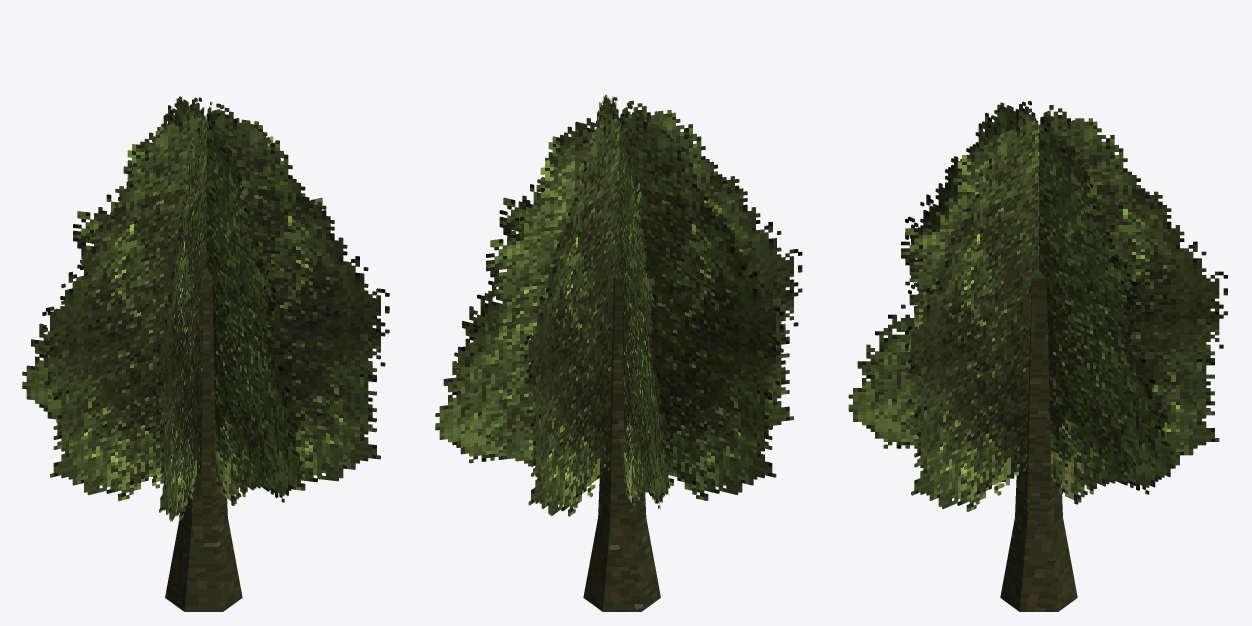
Rendered from tree25.glb.
The picture shows the model from 3 angles, left to right: view 1: azimuth 30°, elevation 25°; view 2: azimuth 150°, elevation 25°; view 3: azimuth 270°, elevation 25°; orthographic projection.
Parts seen in each view (by area): view 1: tree25; view 2: tree25; view 3: tree25.
Part boxes in pixels (<box>): tree25: <box>22,96,389,611</box>; tree25: <box>435,94,802,611</box>; tree25: <box>848,101,1227,611</box>.
Bounding box in the file's own units: 5.75 × 8 × 5.75.
1 material, 1 textured.
